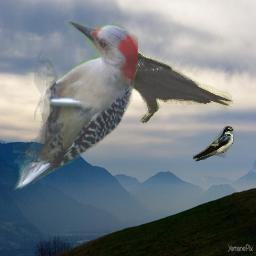Crow: (94, 31, 234, 125)
Swallow: (193, 126, 234, 162)
Woodpecker: (13, 20, 138, 193)
